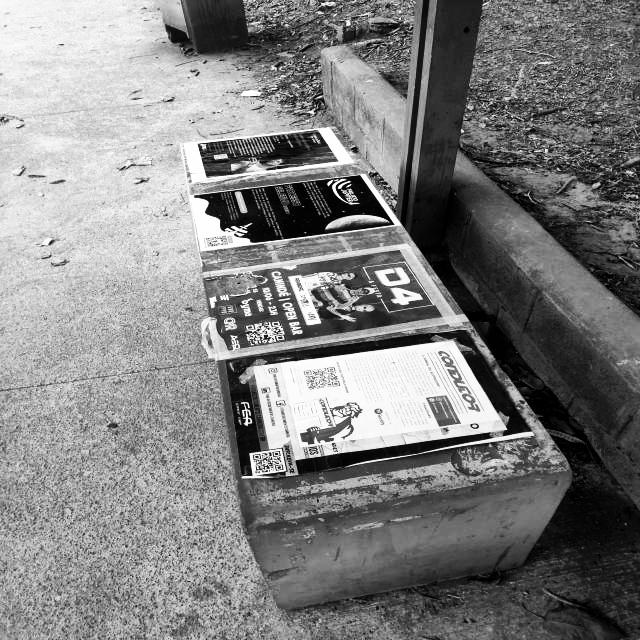qr_code: (245, 321, 287, 346), (304, 367, 340, 390), (253, 451, 283, 473), (206, 236, 228, 247), (214, 154, 228, 159)
